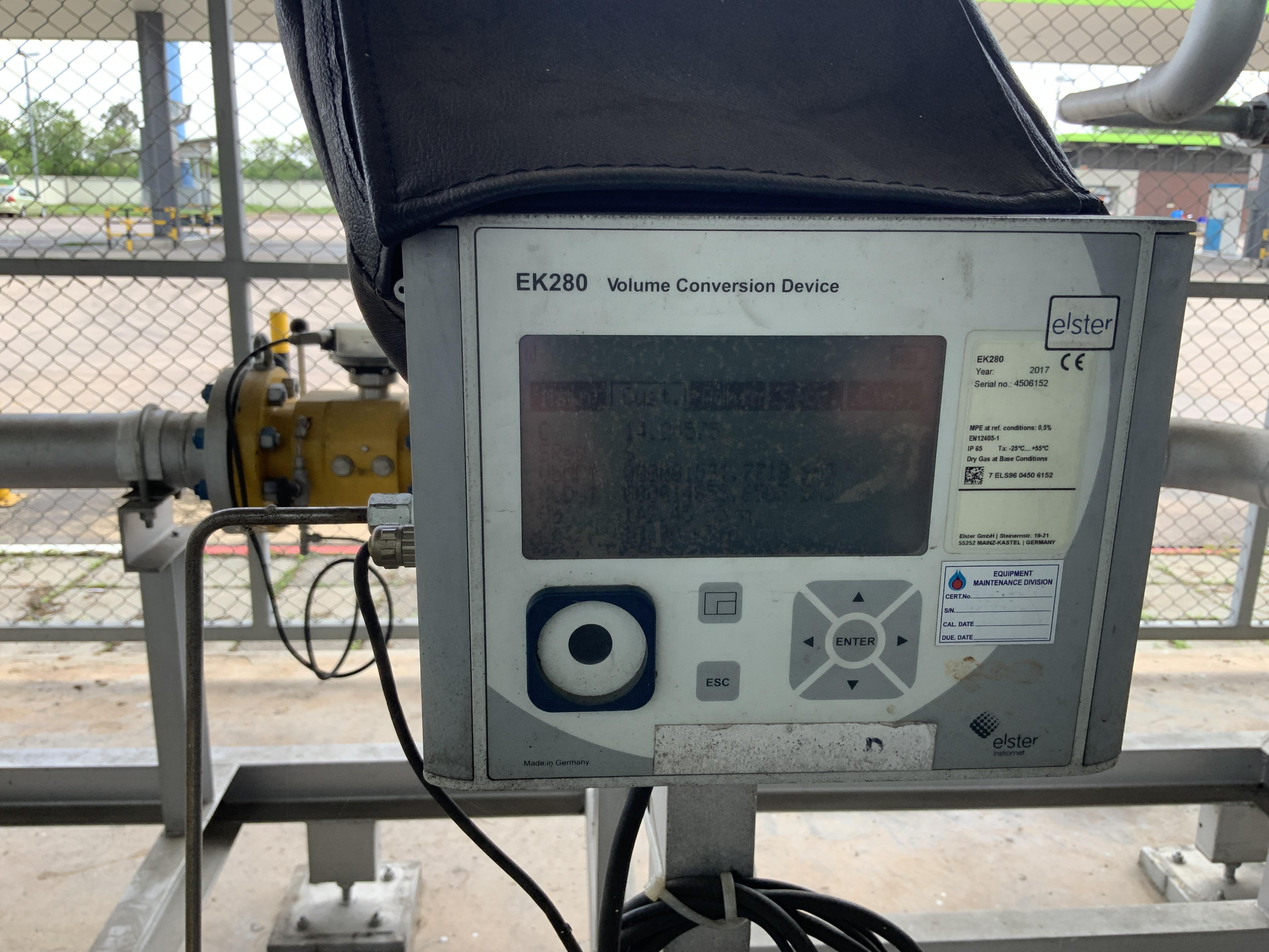digital_screen: (522, 337, 945, 558)
